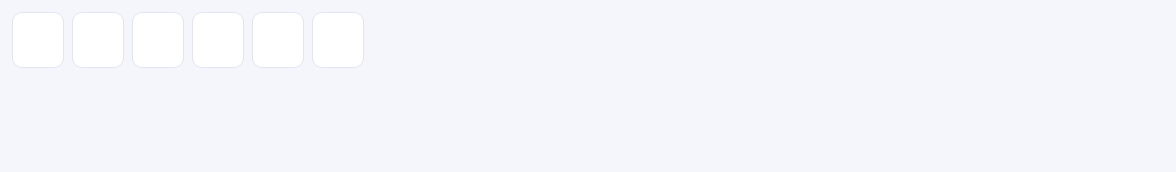
Scenario: CodeInput › fills all six boxes from a pasted code with spaces and calls onComplete
Later steps or results of the test are not shown.
Click the field named "6-digit code" at (588, 40), box [12,12,1164,68]
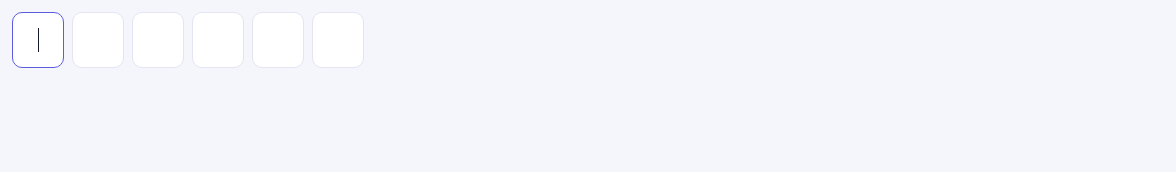
Type keys "482 135"
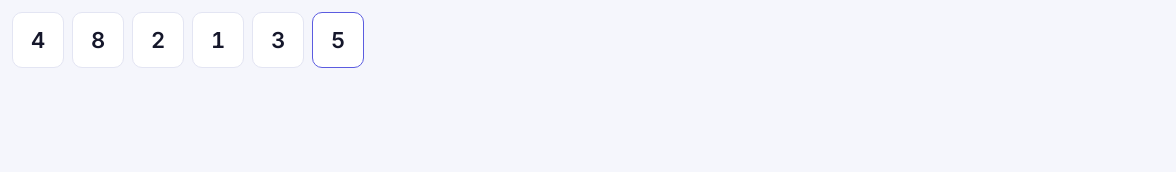
Expected: the field named "6-digit code" holds "482135", [12,12,1164,68]
